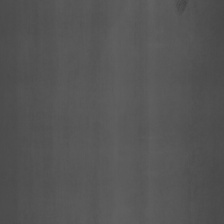water_spot: (175, 0, 194, 24)
